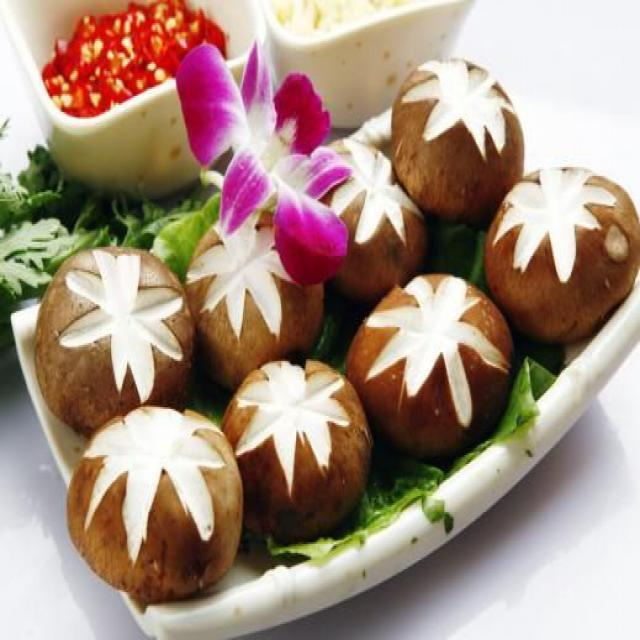Lentinus edodes: (69, 405, 242, 603), (34, 244, 194, 431), (349, 274, 514, 453), (487, 166, 640, 341), (225, 359, 370, 539), (391, 57, 524, 218), (190, 221, 326, 366), (311, 139, 419, 278)
